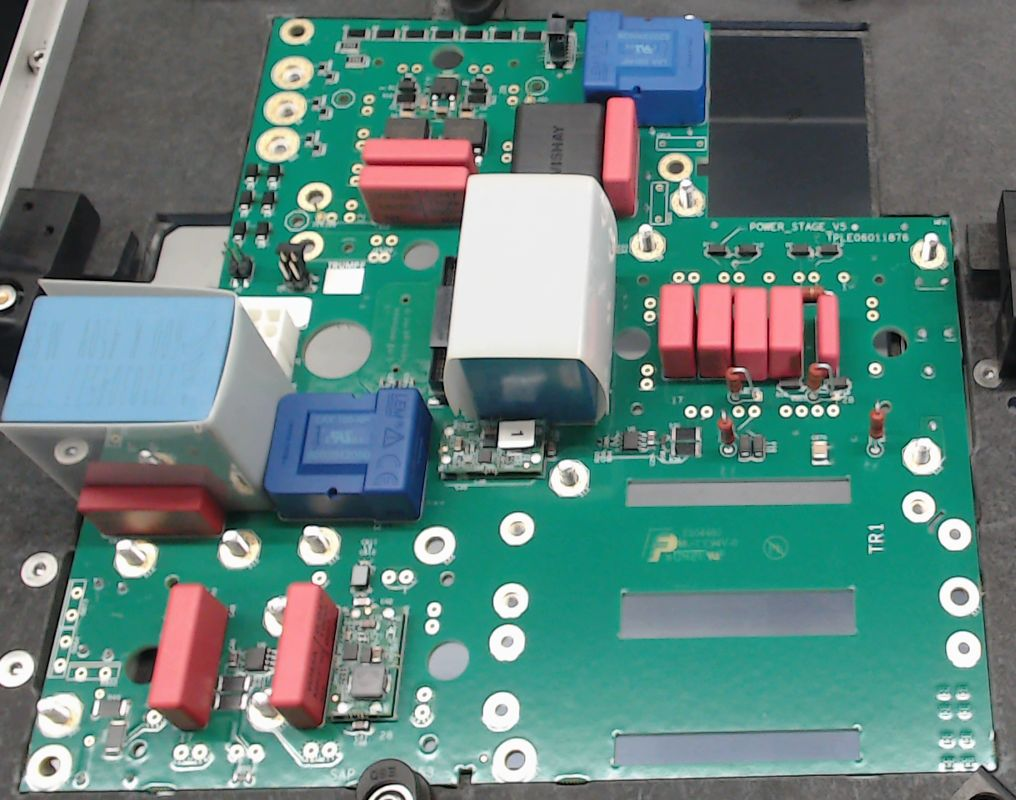comp1: (263, 387, 432, 521), (584, 10, 708, 127)
comp2: (145, 583, 227, 733), (271, 583, 334, 728), (74, 487, 226, 537), (359, 166, 469, 228), (602, 95, 640, 216), (656, 281, 696, 377), (768, 285, 804, 379), (734, 283, 766, 384), (698, 282, 731, 377), (362, 137, 472, 165), (815, 292, 839, 376)
comp3: (513, 102, 602, 180)
comp4: (5, 277, 296, 515), (442, 174, 620, 421)
